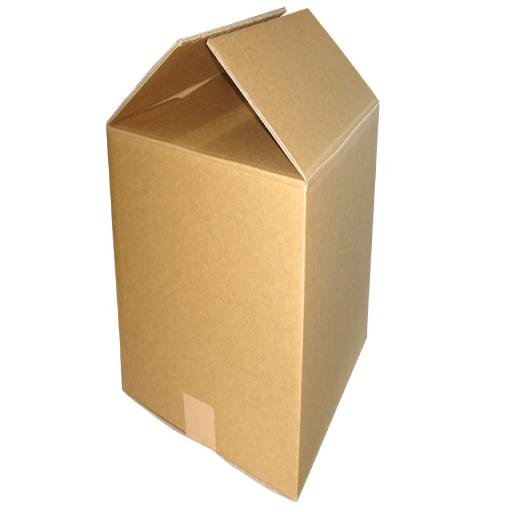box: (105, 6, 380, 503)
opened: (106, 6, 379, 183)
